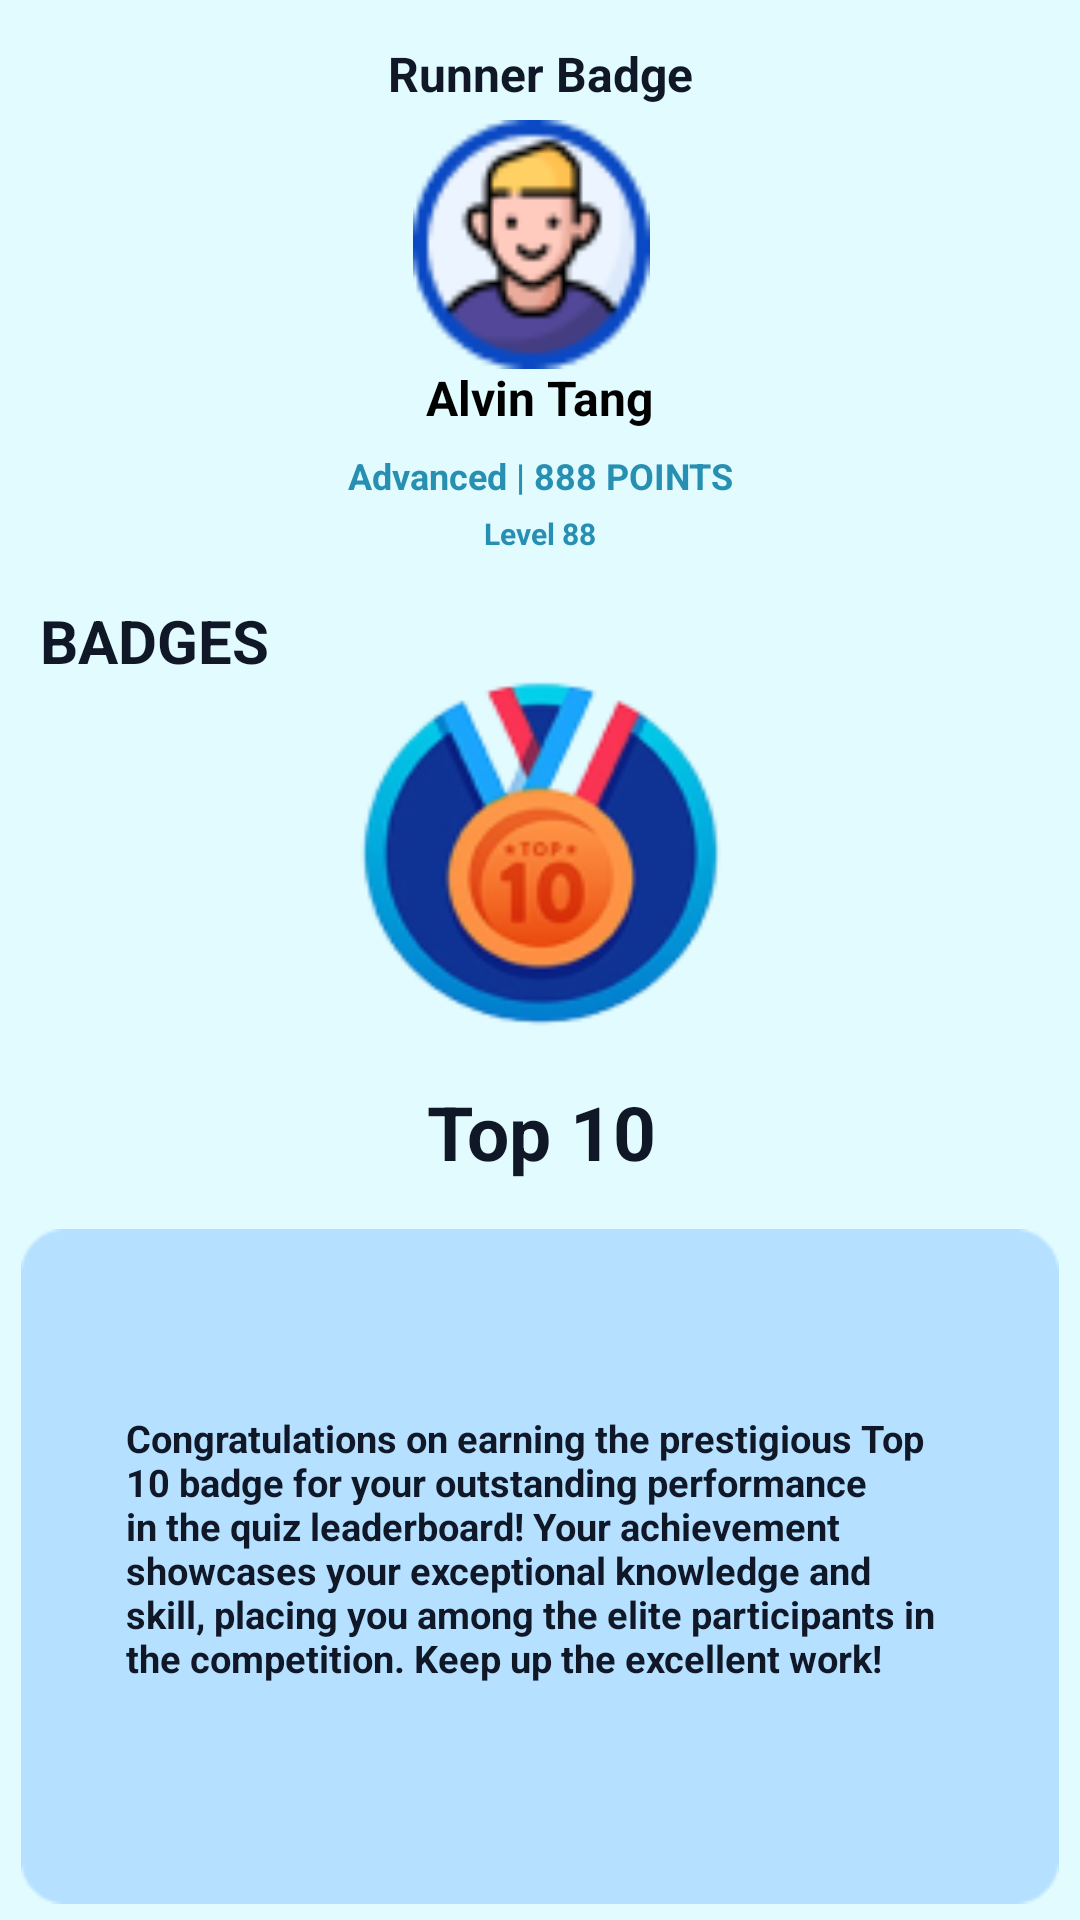

Named icons in this screenshot (1080 x 1920) and their bounding boxes, bbox=(x1, y1, x2, y2):
badge profile: bbox=(363, 682, 718, 1024)
profile: bbox=(413, 120, 650, 369)
